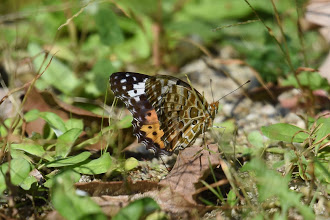Argyreus hyperbius: (106, 64, 251, 156)
butterfly: (108, 66, 253, 158)
